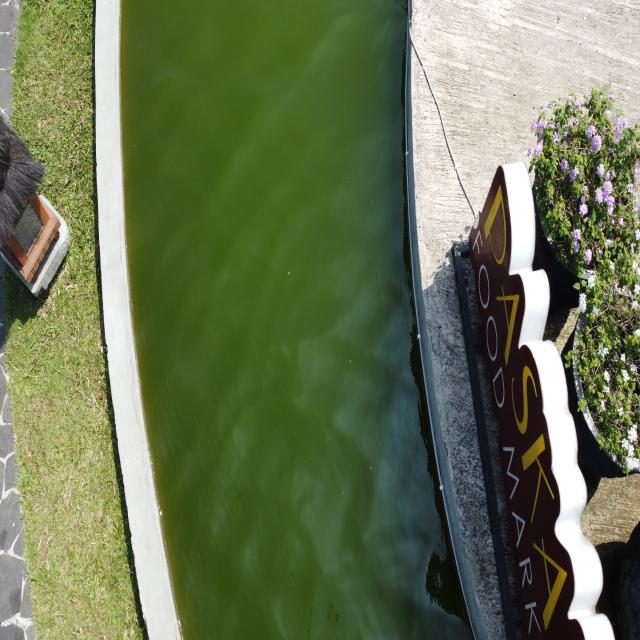Ponds: (97, 1, 506, 638)
